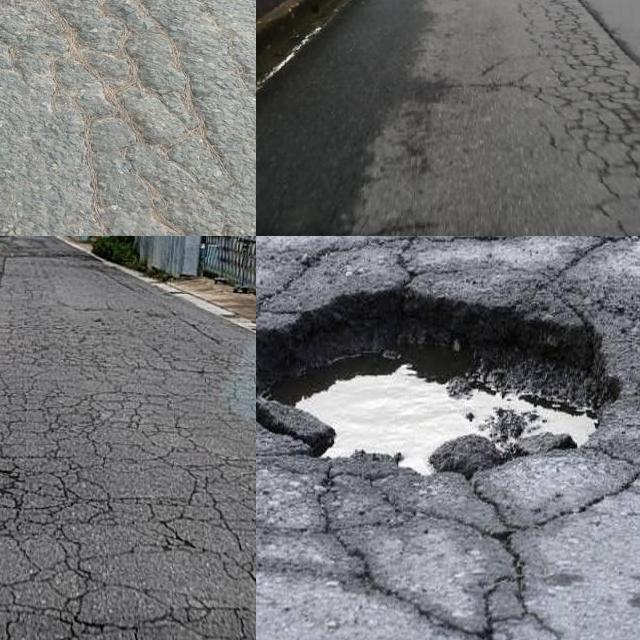Lubang: (256, 289, 614, 481)
Retak Buaya: (0, 278, 256, 640), (0, 0, 256, 236), (501, 0, 640, 236)
